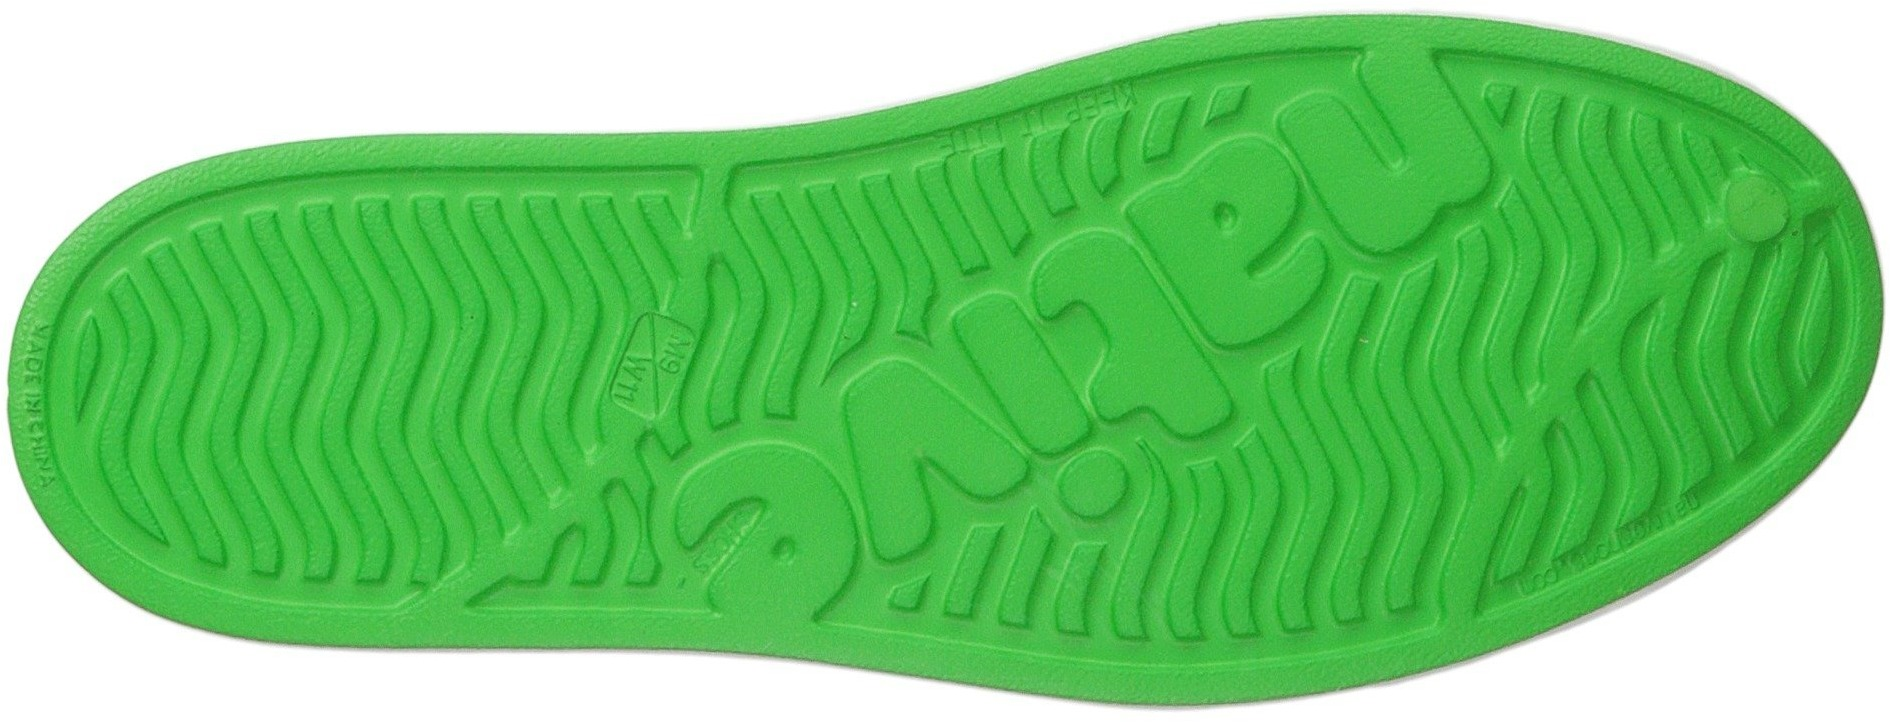chevron: (1474, 219, 1733, 486), (115, 266, 353, 532), (370, 194, 601, 432), (1256, 350, 1461, 559), (735, 188, 900, 341)
line: (991, 48, 1144, 221), (1685, 134, 1819, 265)
quad: (607, 310, 709, 423)
text: (685, 430, 896, 605), (944, 265, 1131, 460), (991, 48, 1144, 221), (1199, 133, 1370, 278), (1685, 134, 1819, 265), (607, 310, 709, 423), (6, 321, 95, 411), (1, 425, 75, 497), (614, 347, 671, 399)
triangle: (607, 310, 709, 423)
